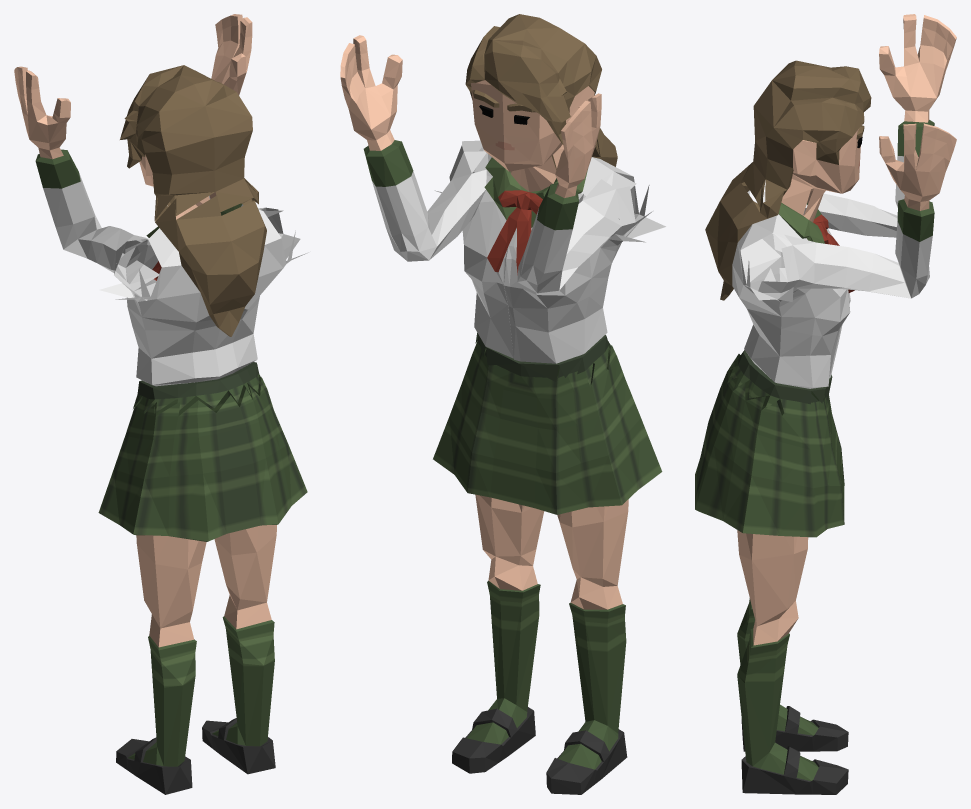
File: Demon_SchoolGirl_01_fists.obj
3 views of the same model, side by side, from view 1: azimuth 30°, elevation 25°; view 2: azimuth 150°, elevation 25°; view 3: azimuth 270°, elevation 25° (orthographic). The views are drawn at different scales.
Parts seen in each view (by area): view 1: Demon_SchoolGirl_01_fists; view 2: Demon_SchoolGirl_01_fists; view 3: Demon_SchoolGirl_01_fists.
Boxes of the visible parts, x1,y1,x2,y2 form: Demon_SchoolGirl_01_fists: [14, 14, 308, 794]; Demon_SchoolGirl_01_fists: [340, 14, 665, 794]; Demon_SchoolGirl_01_fists: [695, 14, 956, 794].
Size of the model in its own units: 0.6235 by 1.82 by 0.6175.
1 material, 1 textured.
